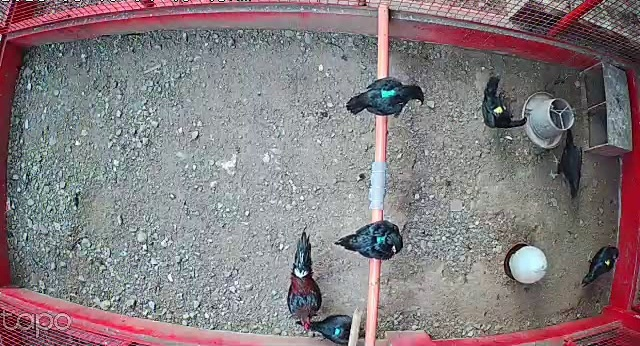Chicken: (346, 75, 429, 121), (334, 217, 407, 262), (475, 72, 527, 135), (548, 127, 585, 199), (295, 311, 368, 346), (582, 242, 620, 287)
Rooster: (282, 225, 328, 330)
Saddle_Color_Blue: (334, 329, 342, 335)
Saddle_Color_Yellow: (493, 104, 507, 115)
